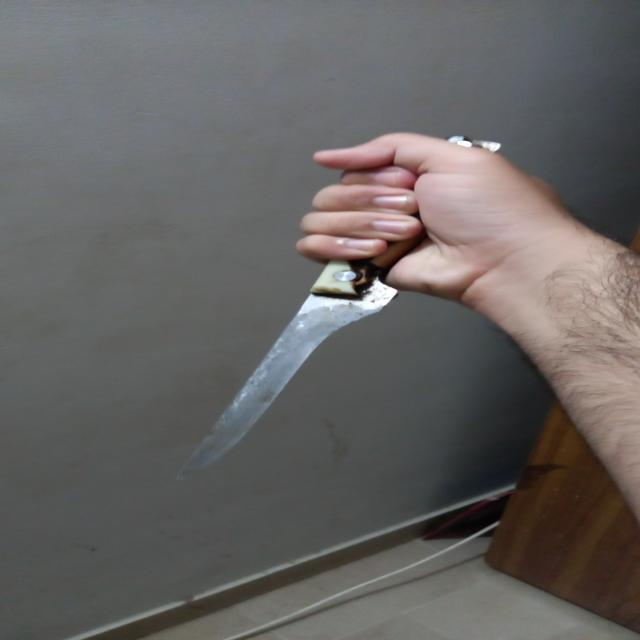knife: (128, 230, 471, 525)
